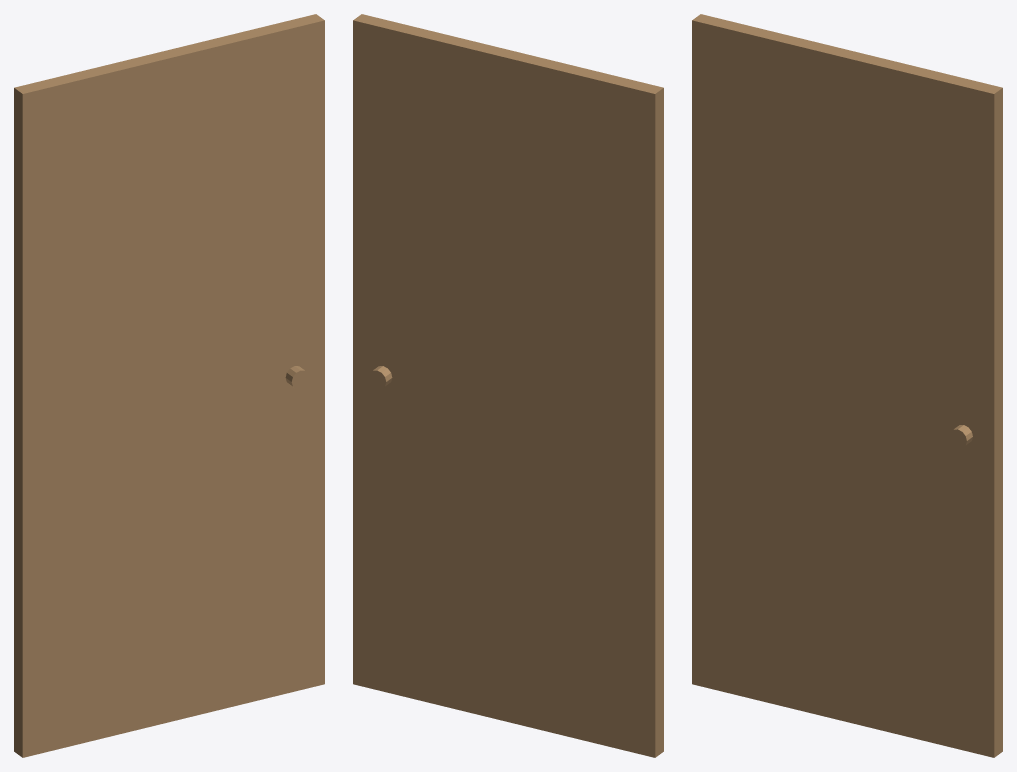
The model's file is door.glb.
3 renders of one model, left to right at view 1: azimuth 30°, elevation 25°; view 2: azimuth 150°, elevation 25°; view 3: azimuth 330°, elevation 25°, orthographic.
Parts seen in each view (by area): view 1: door; view 2: door; view 3: door.
Boxes of the visible parts, x1,y1,x2,y2 form: door: (14, 14, 324, 757); door: (353, 14, 663, 757); door: (692, 14, 1002, 757).
Bounding box in the file's own units: 1 × 2.1 × 0.12.
